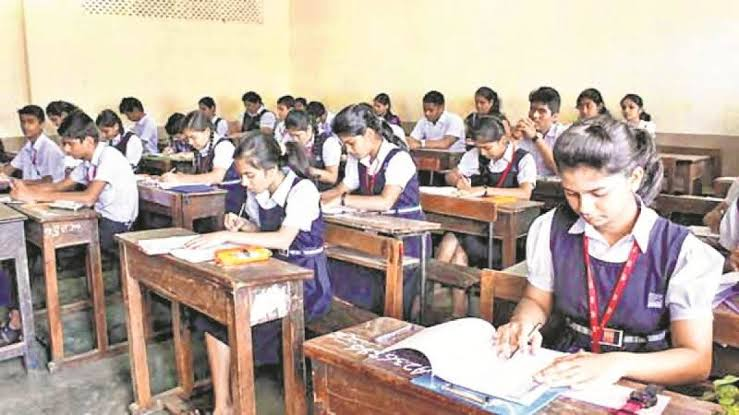student: (57, 111, 102, 160), (281, 104, 317, 142), (183, 108, 211, 156), (43, 95, 81, 129), (14, 102, 48, 138), (91, 109, 129, 140), (420, 88, 452, 124), (475, 83, 502, 119), (161, 109, 187, 144), (117, 95, 150, 119), (619, 95, 646, 123), (240, 89, 262, 115), (198, 91, 218, 119), (373, 92, 394, 118), (276, 92, 294, 112)
studentw: (550, 134, 646, 230), (230, 130, 284, 194), (331, 100, 388, 159), (467, 114, 509, 160), (524, 86, 562, 132), (575, 88, 608, 122)
